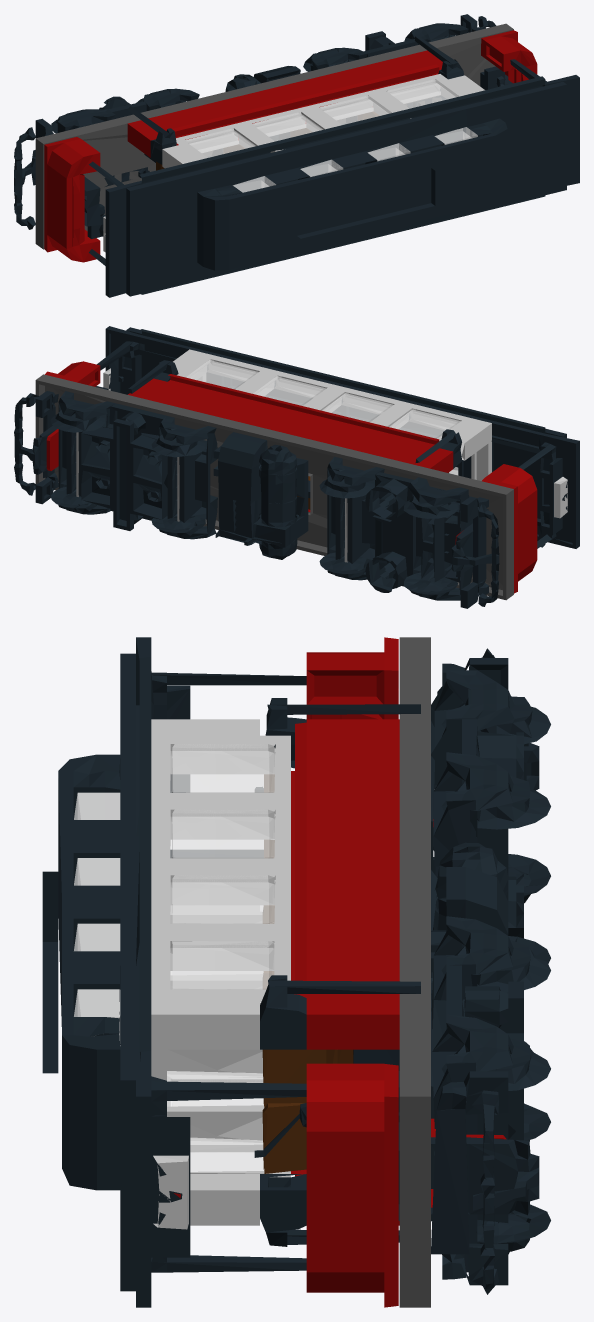
File: tram.glb
The picture shows the model from 3 angles, top to bottom: view 1: azimuth 30°, elevation 25°; view 2: azimuth 150°, elevation 25°; view 3: azimuth 270°, elevation 25°; orthographic projection. The views are drawn at different scales.
Size of the model in its own units: 230 by 59.2 by 105.
